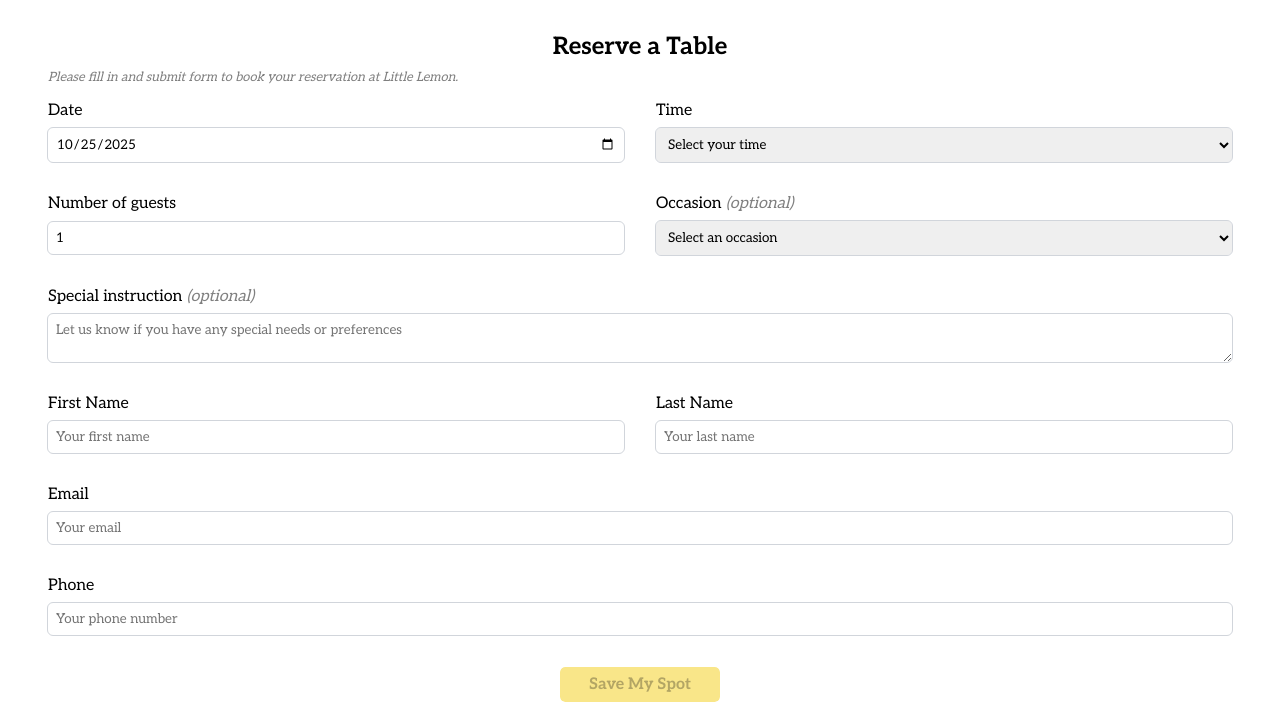
Test: Form Validation › shows error messages with invalid data
Replace the text in the number field labelled "Number of guests" with "21". click: (336, 238)
box: [48,222,624,254]
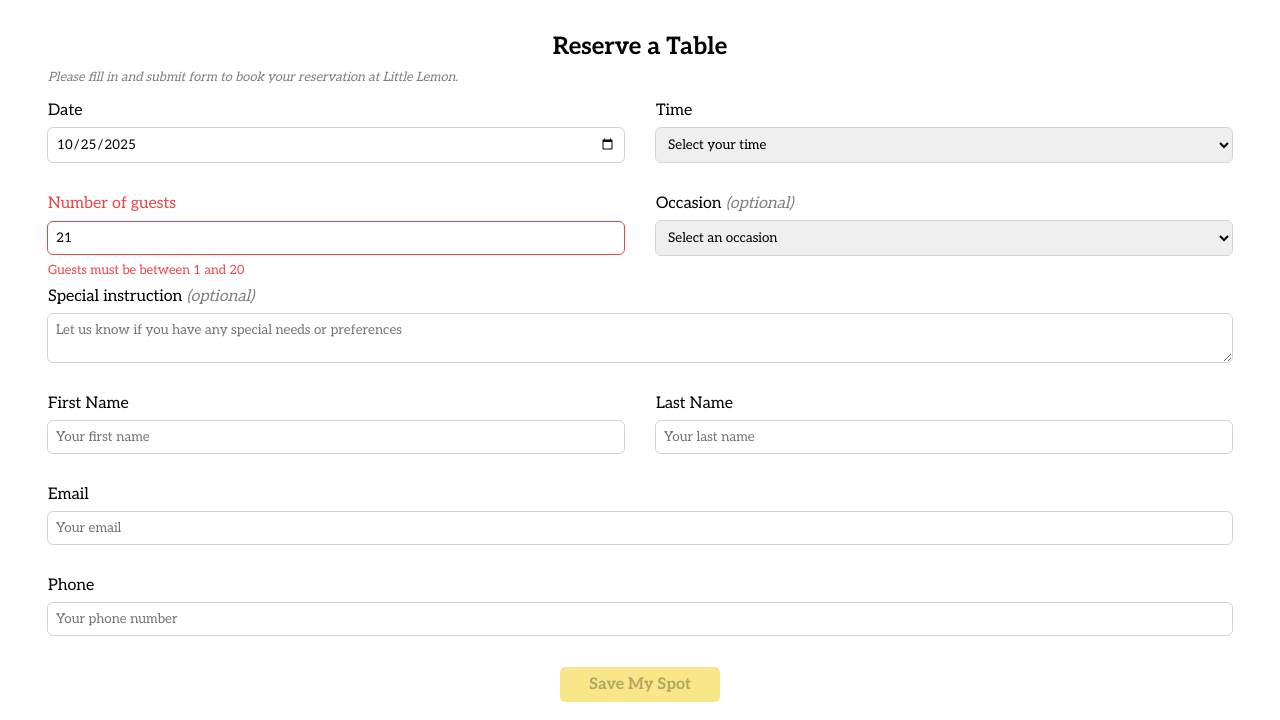
Expected: the text "Guests must be between 1 and 20" is shown, [48,262,244,278]
